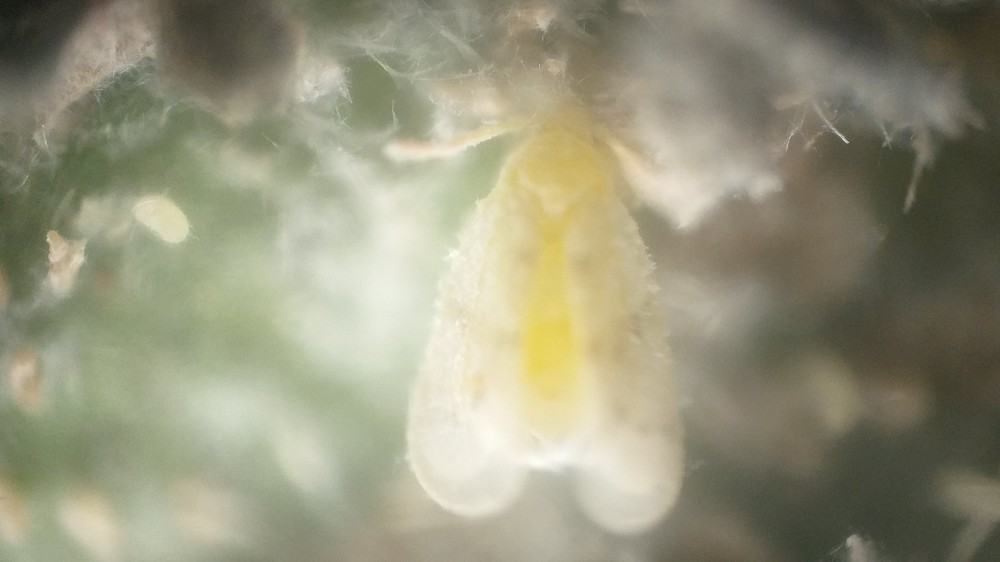Mosca Blanca: (362, 88, 750, 535)
